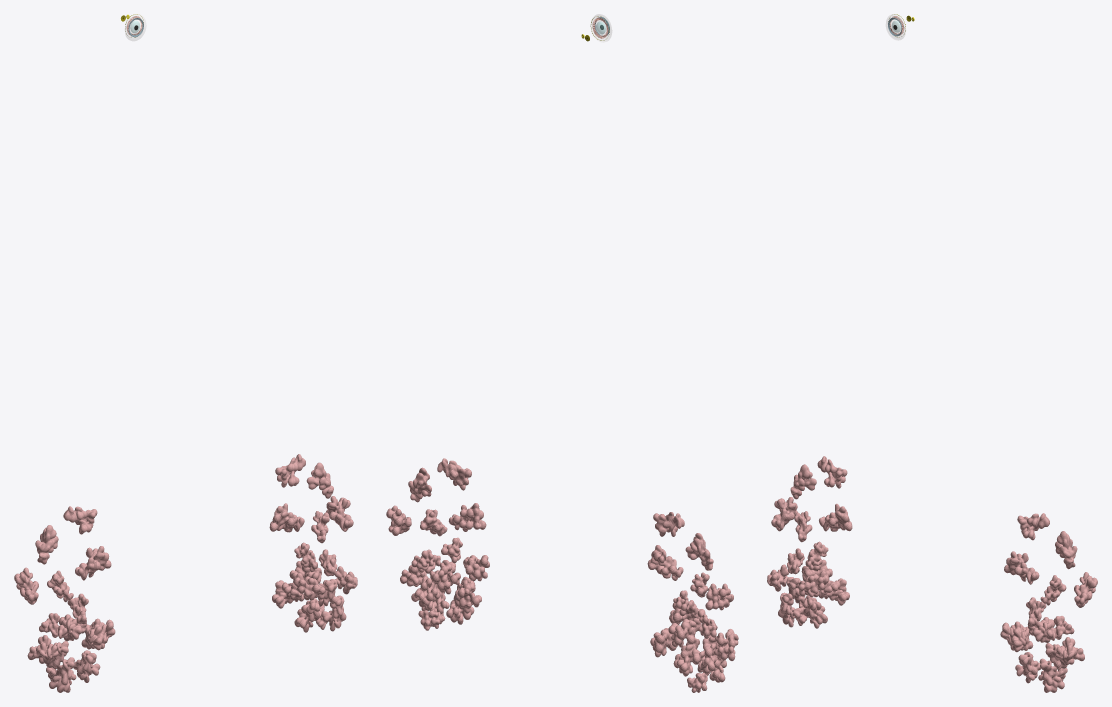
The model's file is female-a-organ-0aa.glb.
The picture shows the model from 3 angles, left to right: view 1: azimuth 30°, elevation 25°; view 2: azimuth 150°, elevation 25°; view 3: azimuth 330°, elevation 25°; orthographic projection. The views are drawn at different scales.
Visible parts, largest first — view 1: VH_F_mammary_lobes_R, VH_F_mammary_lobes_L; view 2: VH_F_mammary_lobes_L, VH_F_mammary_lobes_R; view 3: VH_F_mammary_lobes_L, VH_F_mammary_lobes_R.
Part boxes in pixels (left/top/right/bottom): VH_F_mammary_lobes_R: left=14, top=506, right=115, bottom=692; VH_F_mammary_lobes_L: left=269, top=454, right=357, bottom=632; VH_F_mammary_lobes_L: left=386, top=458, right=489, bottom=630; VH_F_mammary_lobes_R: left=647, top=512, right=738, bottom=692; VH_F_mammary_lobes_L: left=1000, top=513, right=1097, bottom=692; VH_F_mammary_lobes_R: left=767, top=456, right=852, bottom=628.
Size of the model in its own units: 0.2288 by 0.4236 by 0.054.
